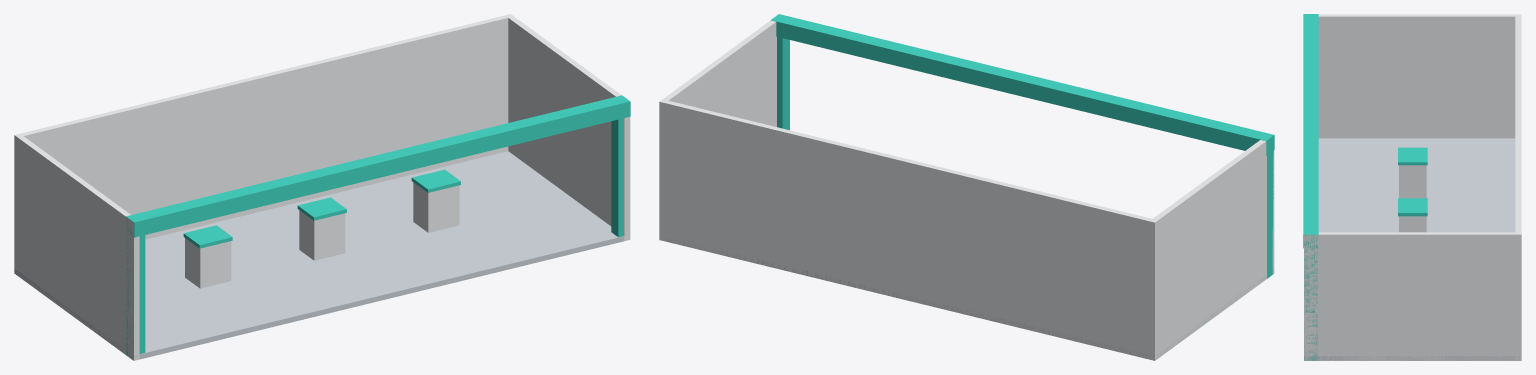
The picture shows the model from 3 angles, left to right: view 1: azimuth 30°, elevation 25°; view 2: azimuth 150°, elevation 25°; view 3: azimuth 270°, elevation 25°; orthographic projection. The views are drawn at different scales.
Parts seen in each view (by area): view 1: Exhibition Booth Concept; view 2: Exhibition Booth Concept; view 3: Exhibition Booth Concept.
Part boxes in pixels (x1=…): Exhibition Booth Concept: x1=14, y1=14, x2=630, y2=360; Exhibition Booth Concept: x1=659, y1=14, x2=1274, y2=360; Exhibition Booth Concept: x1=1303, y1=14, x2=1521, y2=360.
Size of the model in its own units: 12 by 3.2 by 5.02.
